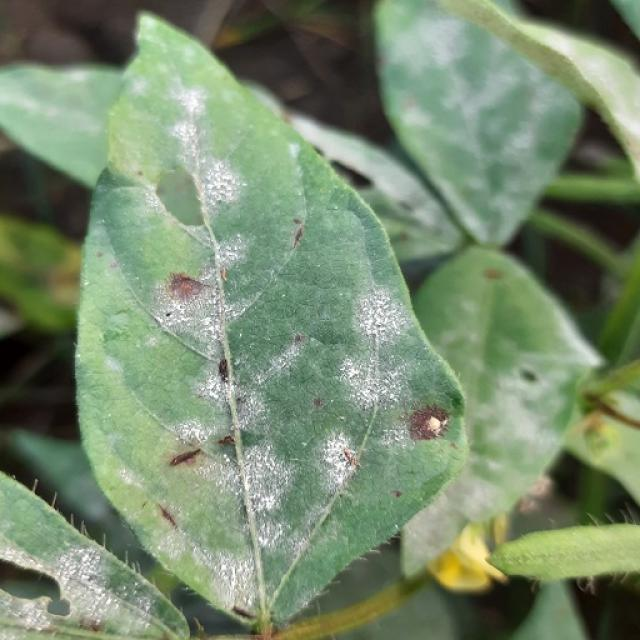Blackgram: (75, 19, 466, 622)
Powdery_Mildew: (131, 167, 406, 558), (302, 290, 421, 444), (232, 411, 349, 532), (452, 59, 543, 165), (152, 264, 250, 359), (236, 328, 328, 420), (91, 553, 172, 636), (481, 376, 559, 462), (198, 526, 267, 623), (32, 545, 111, 618), (167, 76, 229, 159), (410, 15, 482, 82), (351, 283, 406, 366), (240, 445, 294, 520), (3, 78, 83, 128), (443, 466, 509, 520), (314, 429, 361, 491), (199, 151, 245, 211), (201, 159, 246, 211), (208, 233, 251, 278), (172, 418, 213, 450), (289, 141, 301, 162), (392, 524, 401, 538), (329, 204, 340, 212), (281, 293, 286, 299)
